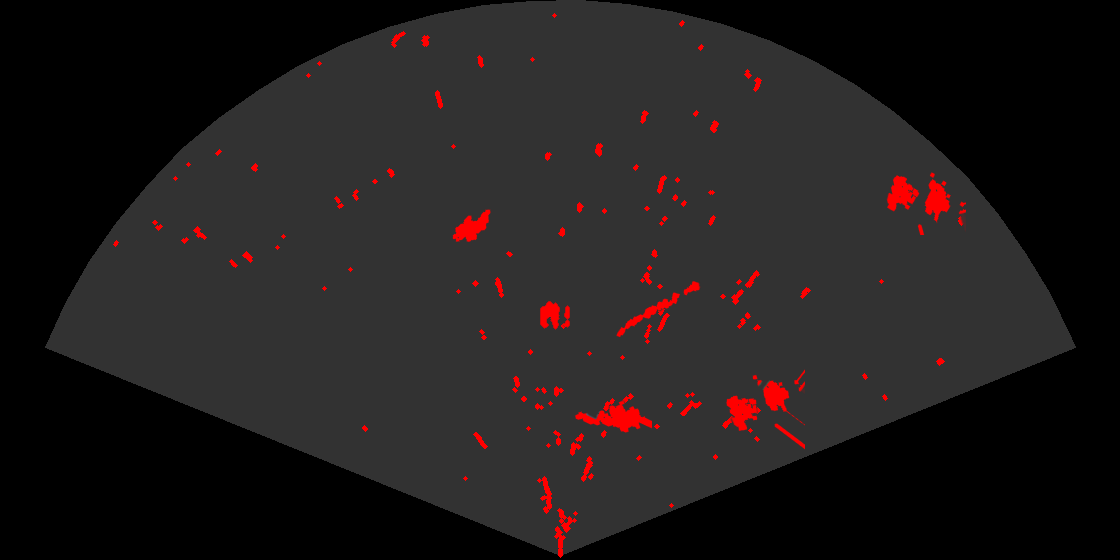AUV: (451, 208, 492, 244)
ball: (539, 300, 571, 331)
cage: (725, 368, 805, 451), (885, 171, 966, 235)
chain: (615, 279, 702, 339)
frogman: (574, 399, 652, 434)
